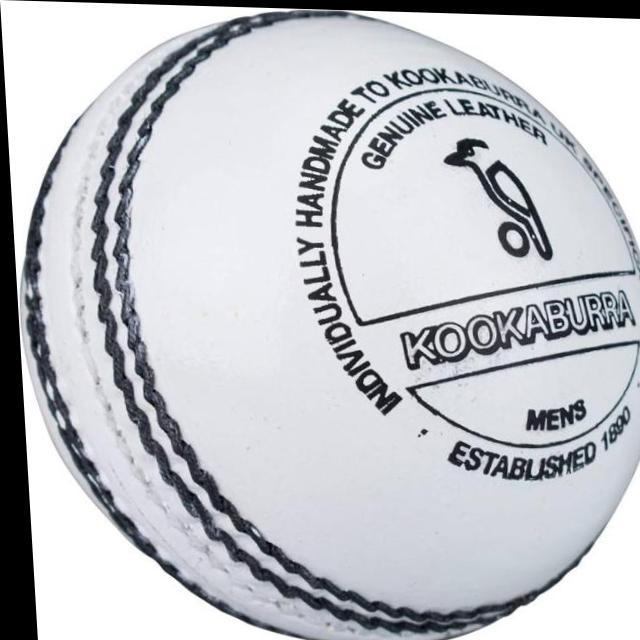cricket ball: (15, 8, 640, 640)
